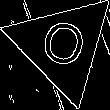O_S: (35, 15, 90, 77)
